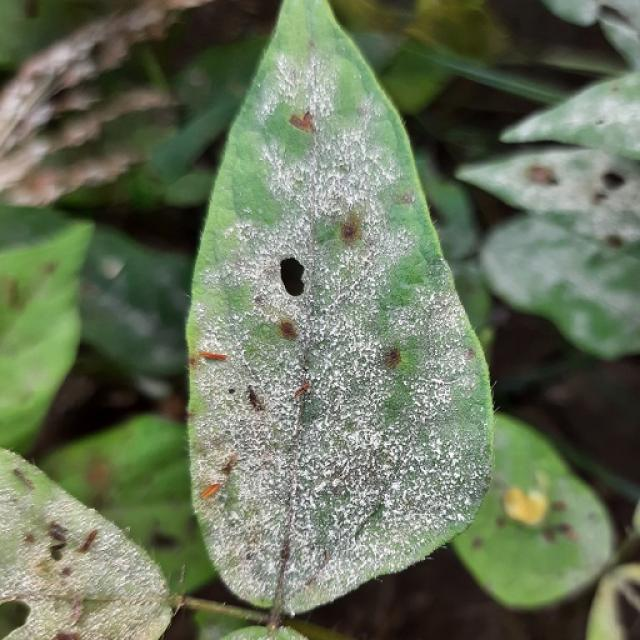Blackgram: (186, 0, 491, 612)
Powdery_Mildew: (203, 0, 447, 300), (302, 284, 494, 609), (279, 6, 358, 405), (198, 310, 290, 493), (252, 0, 378, 126), (200, 501, 307, 613), (269, 44, 341, 126), (267, 567, 377, 620), (453, 436, 498, 527), (270, 0, 333, 49)
